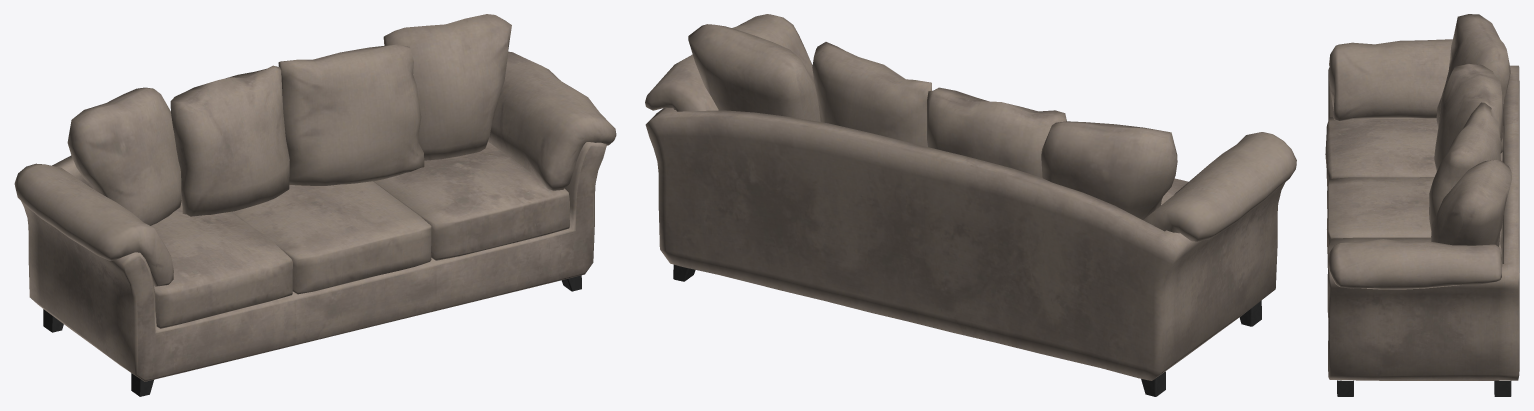
3 views of the same model, side by side, from view 1: azimuth 30°, elevation 25°; view 2: azimuth 150°, elevation 25°; view 3: azimuth 270°, elevation 25° (orthographic). The views are drawn at different scales.
Parts seen in each view (by area): view 1: node_Couch_03_9976; view 2: node_Couch_03_9976; view 3: node_Couch_03_9976.
Boxes of the visible parts, x1,y1,x2,y2 form: node_Couch_03_9976: [14, 14, 616, 396]; node_Couch_03_9976: [645, 14, 1296, 396]; node_Couch_03_9976: [1325, 14, 1519, 396].
Size of the model in its own units: 2.26 by 0.9226 by 0.8121.
Materials: 1 (1 with a texture image).
